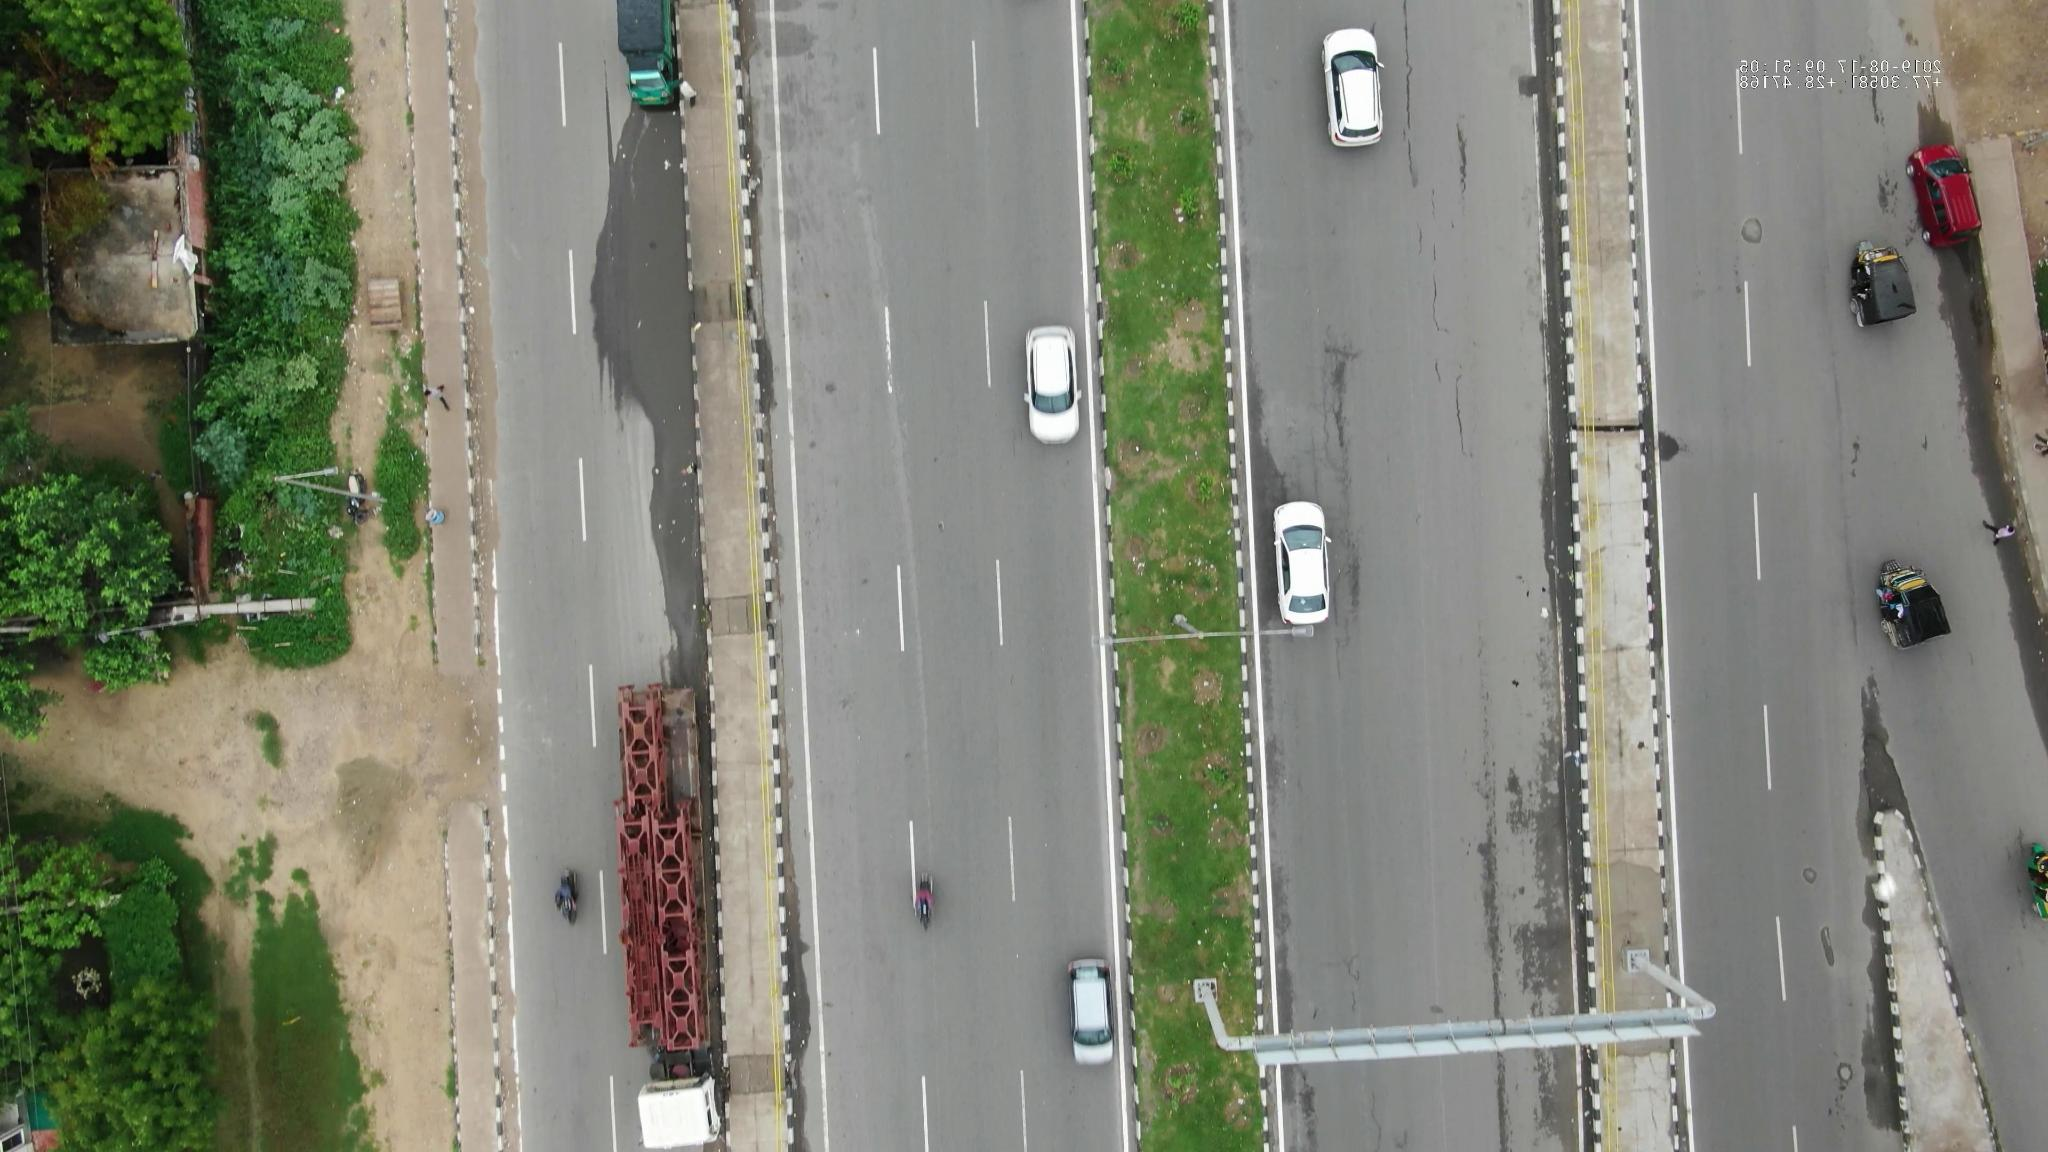Cracks: (1286, 324, 1394, 499), (1380, 1, 1436, 295)
Muddy_road: (454, 1, 495, 263)
